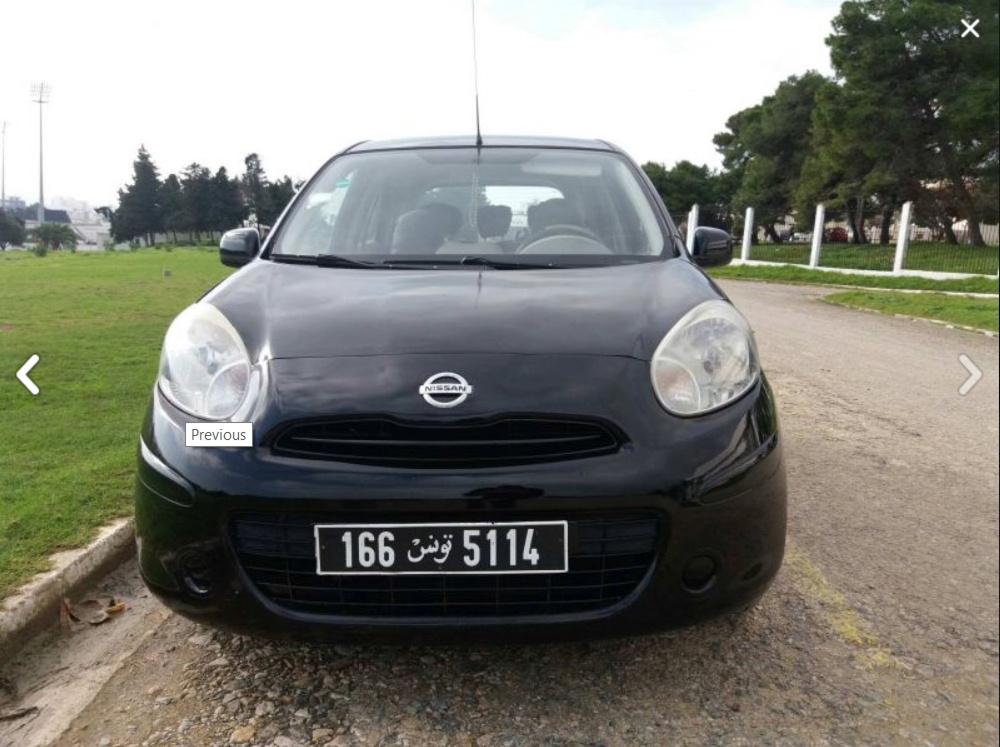LP: (309, 517, 574, 579)
